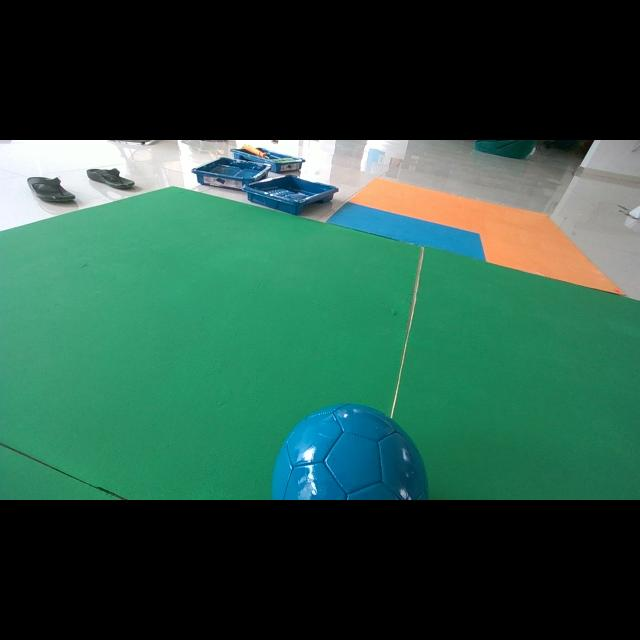B: (272, 405, 428, 499)
